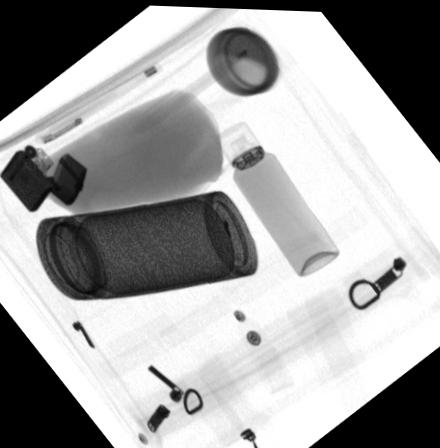Lighter: (0, 145, 86, 210)
Sprayer: (213, 117, 340, 273)
